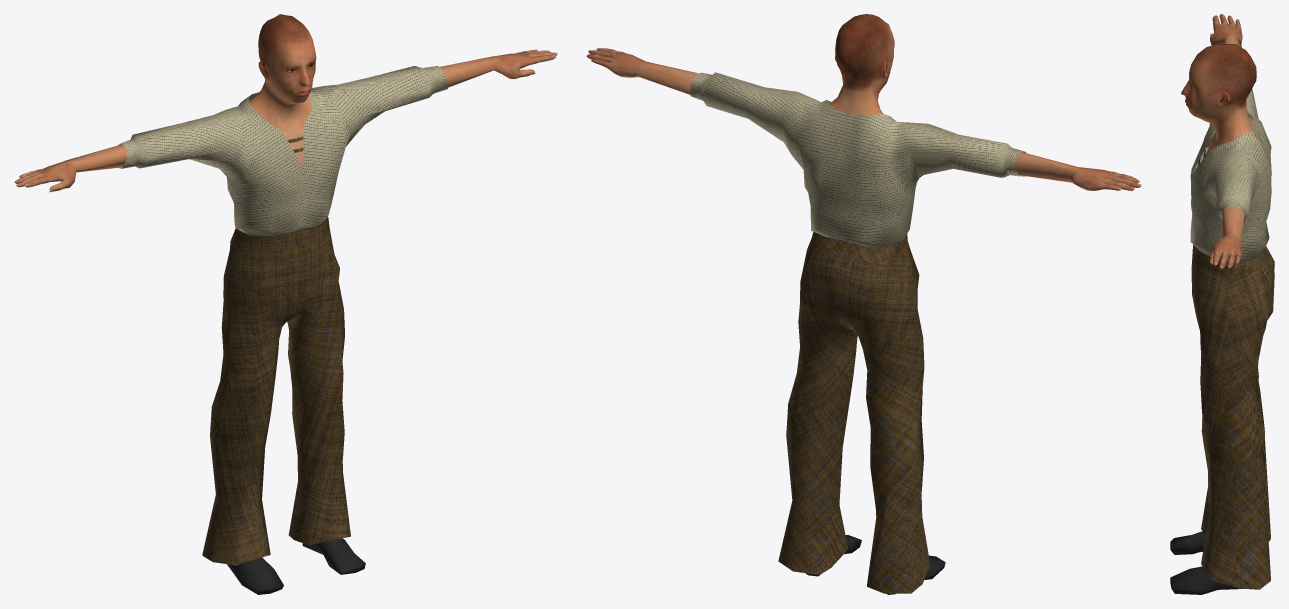
File: Civil_Homem 1.1.fbx
3 renders of one model, left to right at view 1: azimuth 30°, elevation 25°; view 2: azimuth 150°, elevation 25°; view 3: azimuth 270°, elevation 25°, orthographic. The views are drawn at different scales.
Visible parts, largest first — view 1: Roupa, Corpo; view 2: Roupa, Corpo; view 3: Roupa, Corpo.
Part boxes in pixels (bbox=[...]): Roupa: bbox=[118, 66, 448, 594]; Corpo: bbox=[14, 14, 557, 565]; Roupa: bbox=[690, 72, 1025, 594]; Corpo: bbox=[586, 14, 1141, 190]; Roupa: bbox=[1170, 89, 1274, 594]; Corpo: bbox=[1181, 14, 1256, 268].
Size of the model in its own units: 195 by 188 by 33.95.
3 materials, 3 textured.
